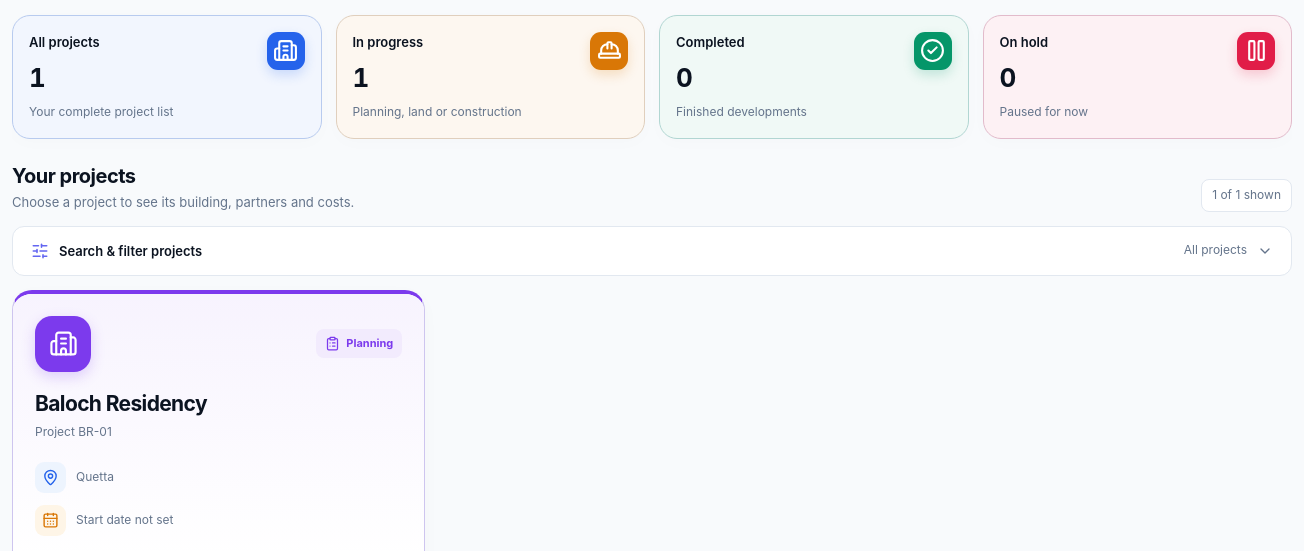
Scenario: ProjectsPage › shows searchable project cards that link to their detail page
Click the text "Search & filter projects" at (117, 251), box [31,241,202,261]
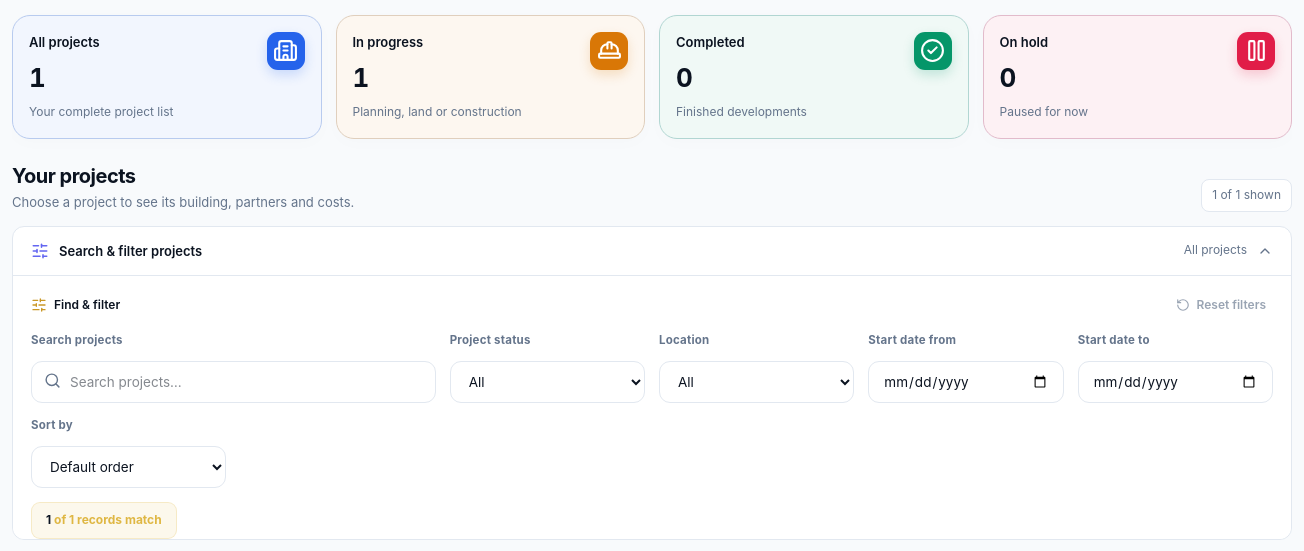
Type "unknown" into the field labelled "Search projects" at (233, 382), box [31,361,436,403]
(page scrolled)
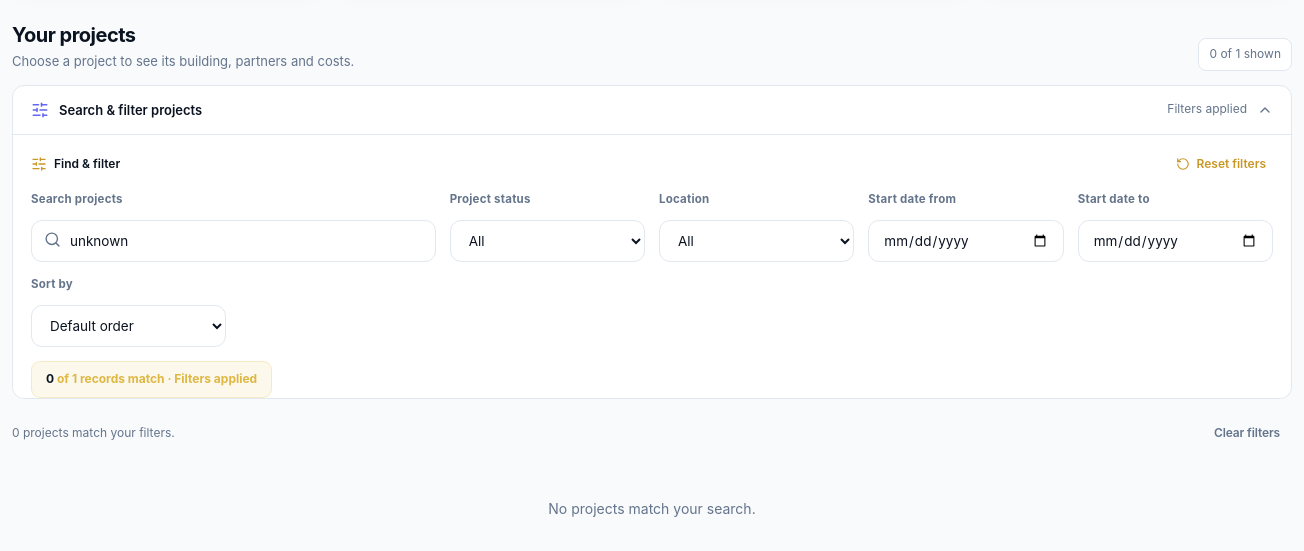
Expected: the text "No projects match your search." is shown, [548,500,756,517]
